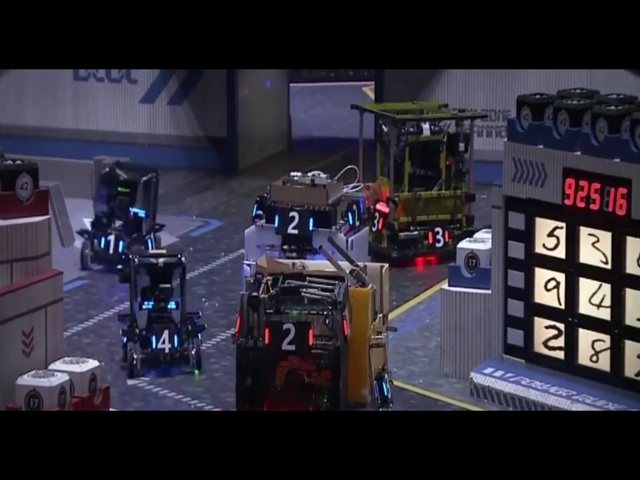bluePlate: (272, 207, 316, 238), (97, 229, 126, 258), (150, 328, 179, 355), (343, 200, 365, 232), (142, 227, 158, 250)
redPlate: (263, 319, 314, 353), (425, 223, 451, 251), (369, 209, 385, 235)
